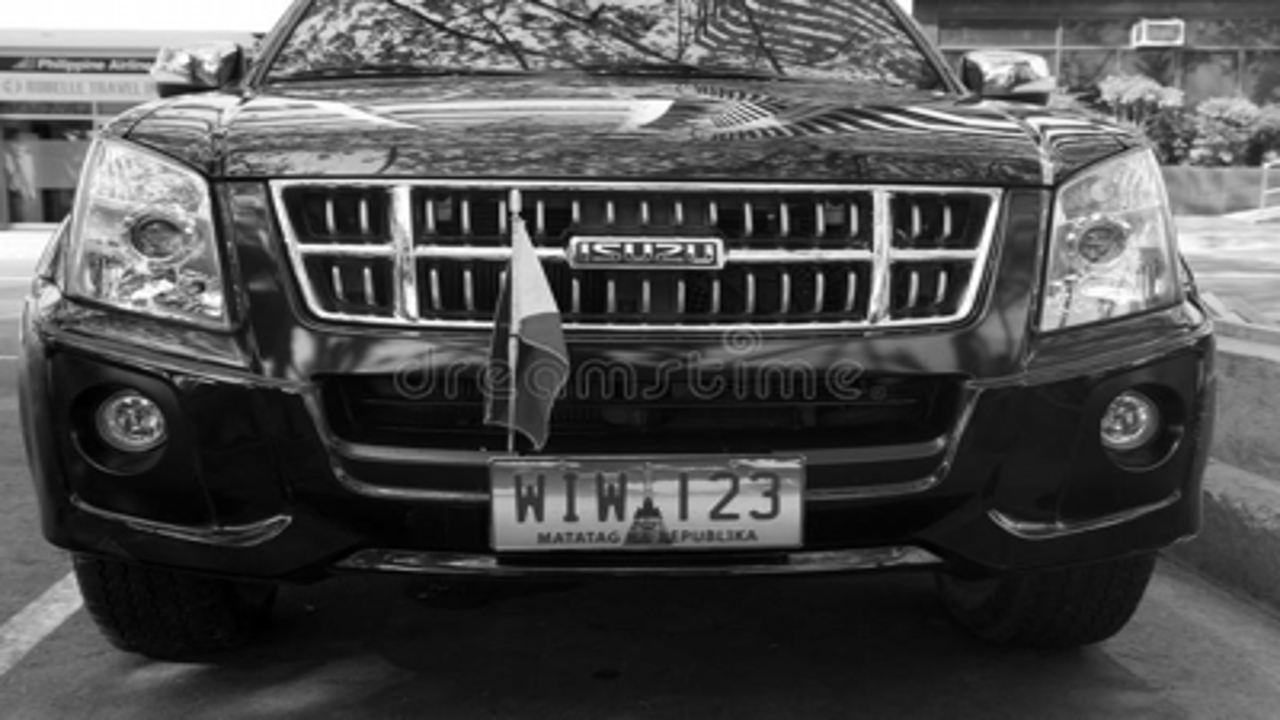license: (484, 449, 811, 558)
